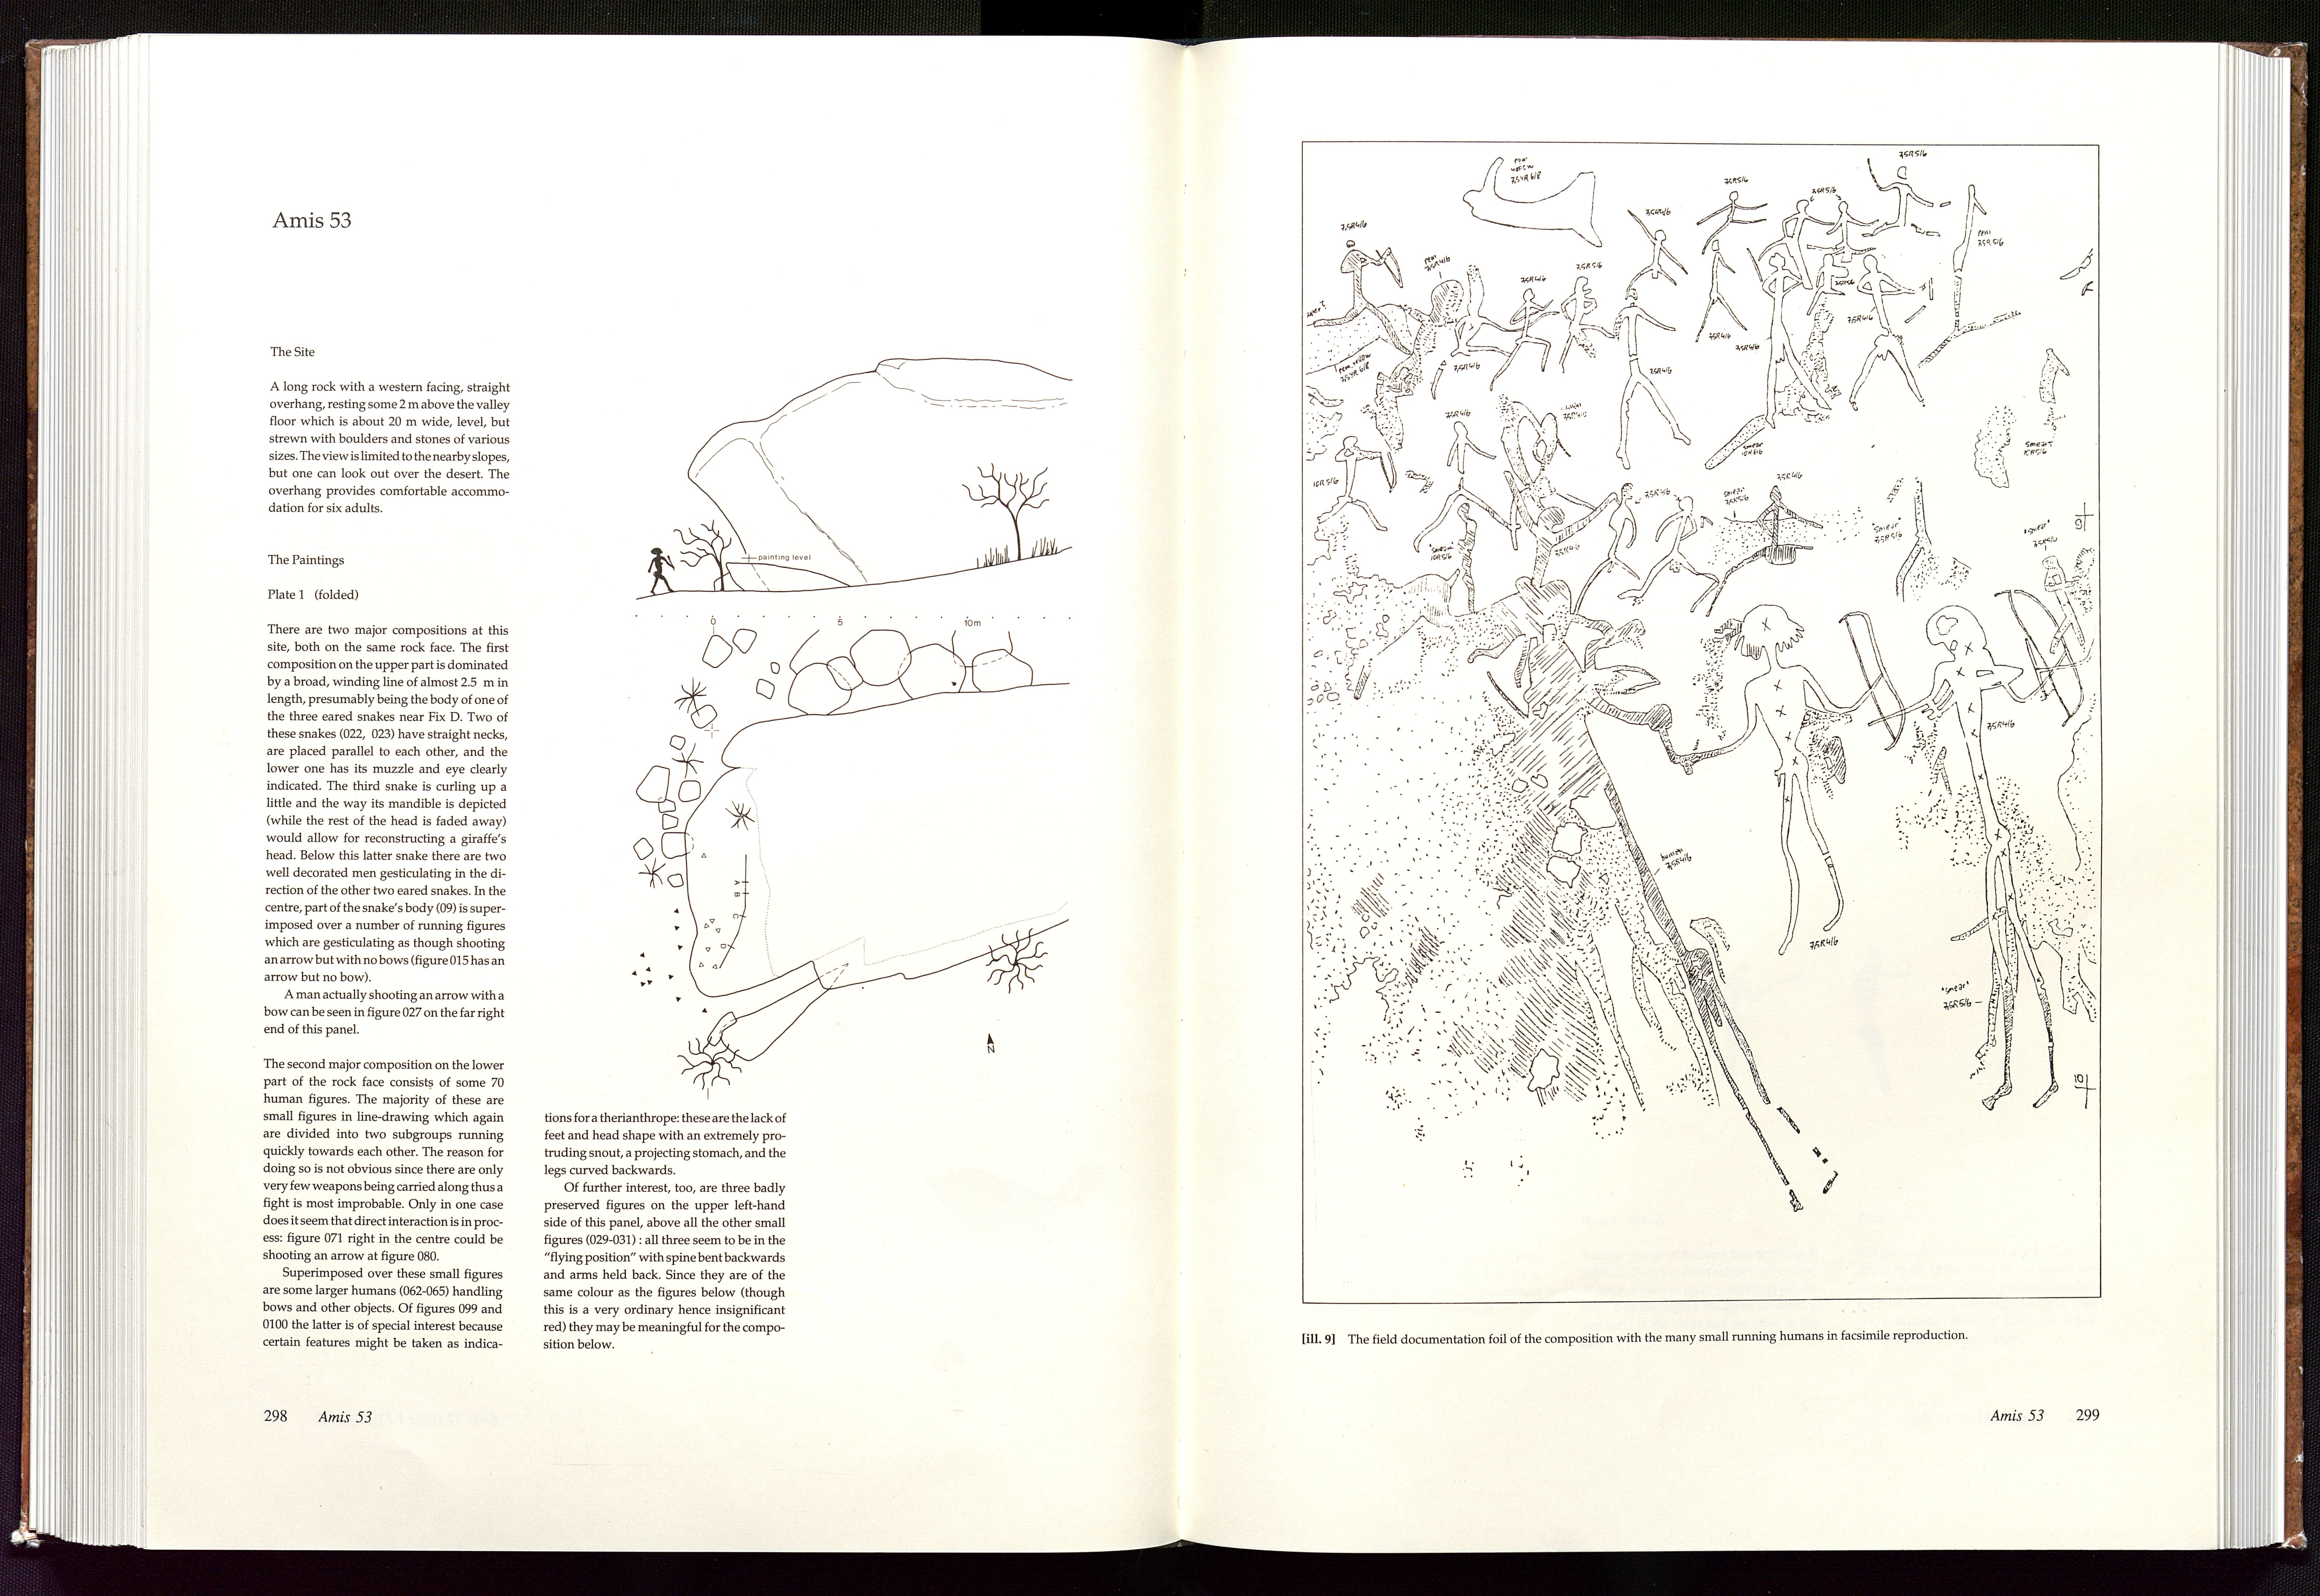human: (1864, 585, 2086, 1112), (1668, 601, 1907, 956), (1467, 470, 1644, 673), (1944, 895, 2045, 1056), (1704, 484, 1823, 617), (1411, 420, 1523, 553), (1612, 287, 1693, 468), (1846, 254, 1927, 413), (1618, 494, 1720, 617), (1761, 253, 1832, 429), (1313, 238, 1415, 357), (1429, 263, 1513, 400), (1566, 478, 1643, 612), (1860, 155, 1951, 244), (1759, 195, 1835, 290), (1489, 286, 1554, 392), (1317, 435, 1389, 532), (1624, 205, 1693, 301), (1693, 238, 1749, 344), (1559, 276, 1617, 375), (1804, 197, 1881, 265), (2040, 554, 2088, 656), (1694, 189, 1768, 255), (1805, 253, 1850, 314)
